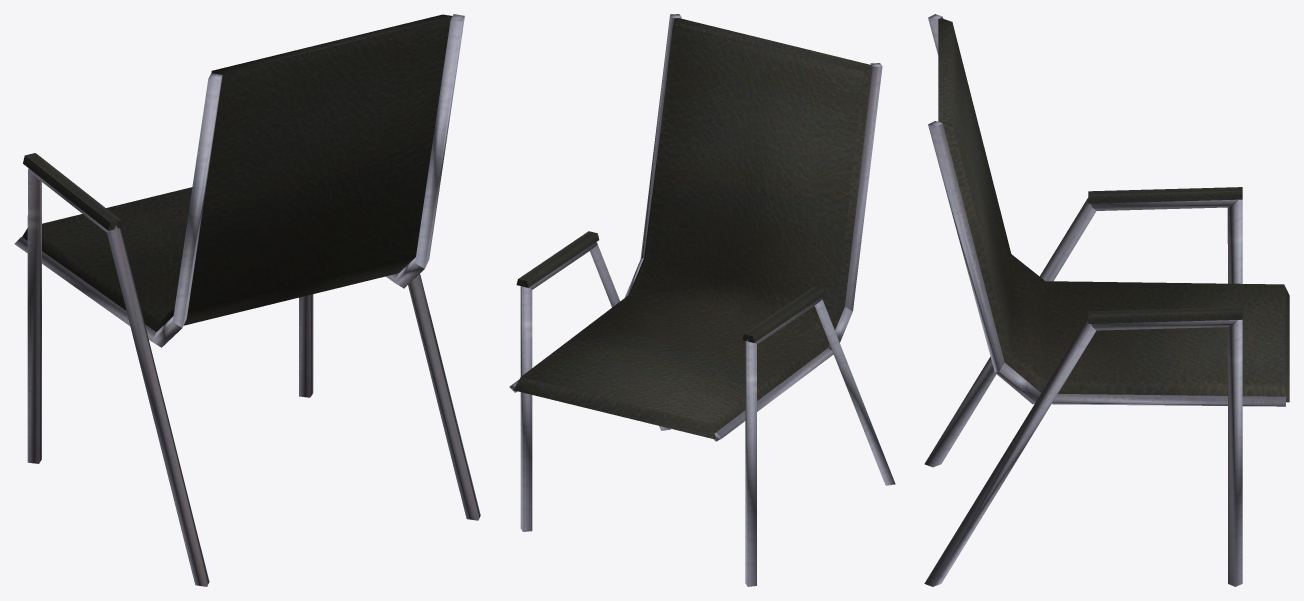
Rendered from Prop_Jjyz01.glb.
The picture shows the model from 3 angles, left to right: view 1: azimuth 30°, elevation 25°; view 2: azimuth 150°, elevation 25°; view 3: azimuth 270°, elevation 25°; orthographic projection. The views are drawn at different scales.
Parts seen in each view (by area): view 1: xiutz_jjyz_01; view 2: xiutz_jjyz_01; view 3: xiutz_jjyz_01.
Boxes of the visible parts, left/top/right/bottom form: xiutz_jjyz_01: left=14, top=14, right=480, bottom=586; xiutz_jjyz_01: left=509, top=14, right=895, bottom=586; xiutz_jjyz_01: left=924, top=14, right=1289, bottom=586.
Bounding box in the file's own units: 0.9997 × 1.67 × 1.22.
1 material, 1 textured.
